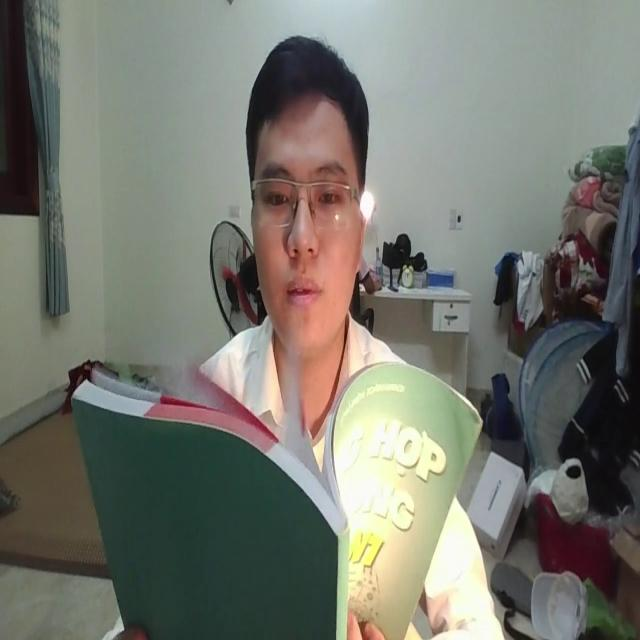book: (66, 348, 482, 640)
student: (221, 29, 367, 414)
